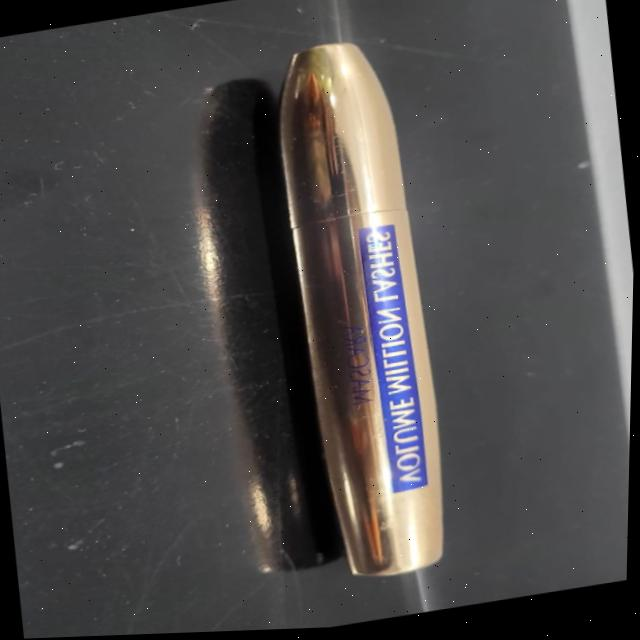mascara: (211, 15, 487, 611)
